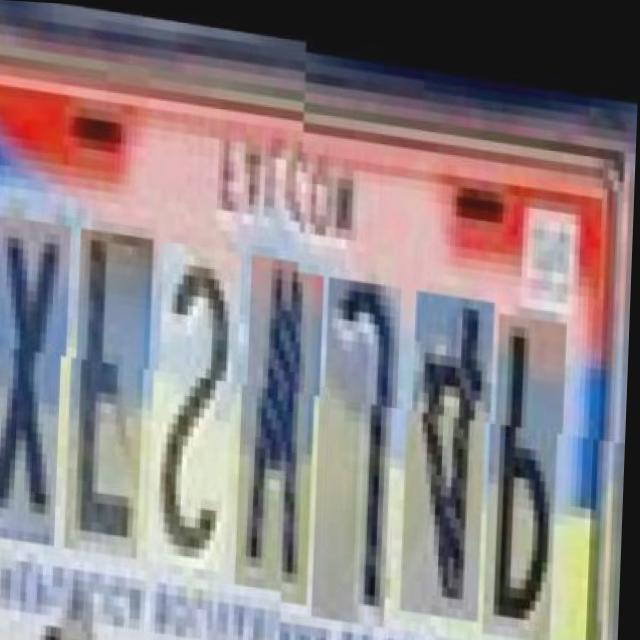4: (410, 266, 497, 596)
f: (73, 224, 155, 554)
j: (320, 254, 405, 605)
p: (492, 287, 569, 615)
s: (157, 235, 244, 565)
w: (244, 245, 328, 585)
x: (0, 215, 74, 544)
